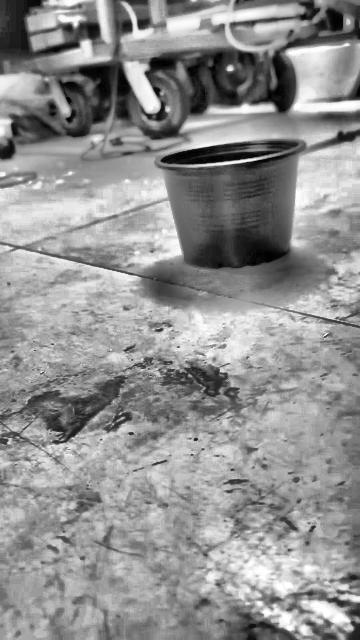pot: (153, 137, 306, 269)
